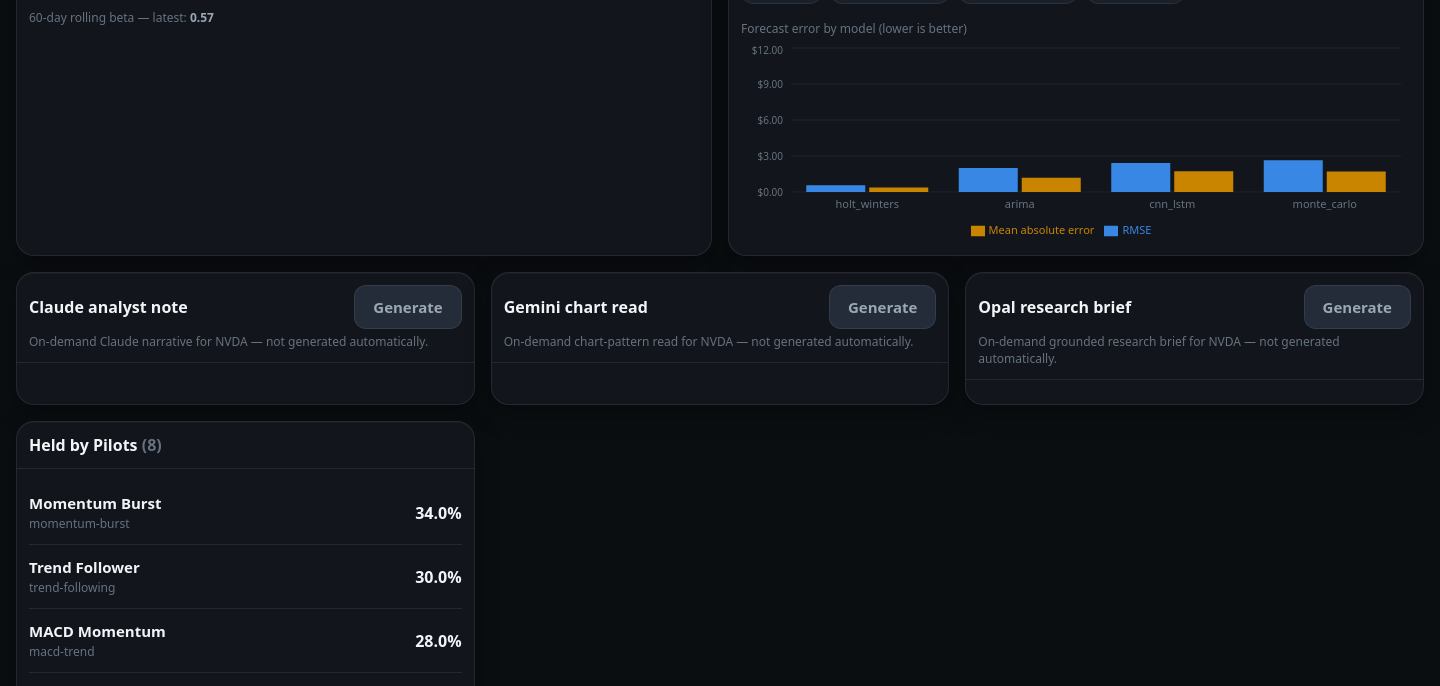
it: SymbolDetail screen (real mock API) › On-demand AI generation cards › Claude analyst note: an honest missing_key reason renders the specific operator-facing message, never a generic error
(page scrolled)
Click the button "Generate" in the row of "Claude analyst note" at (408, 307), box [354,285,462,329]
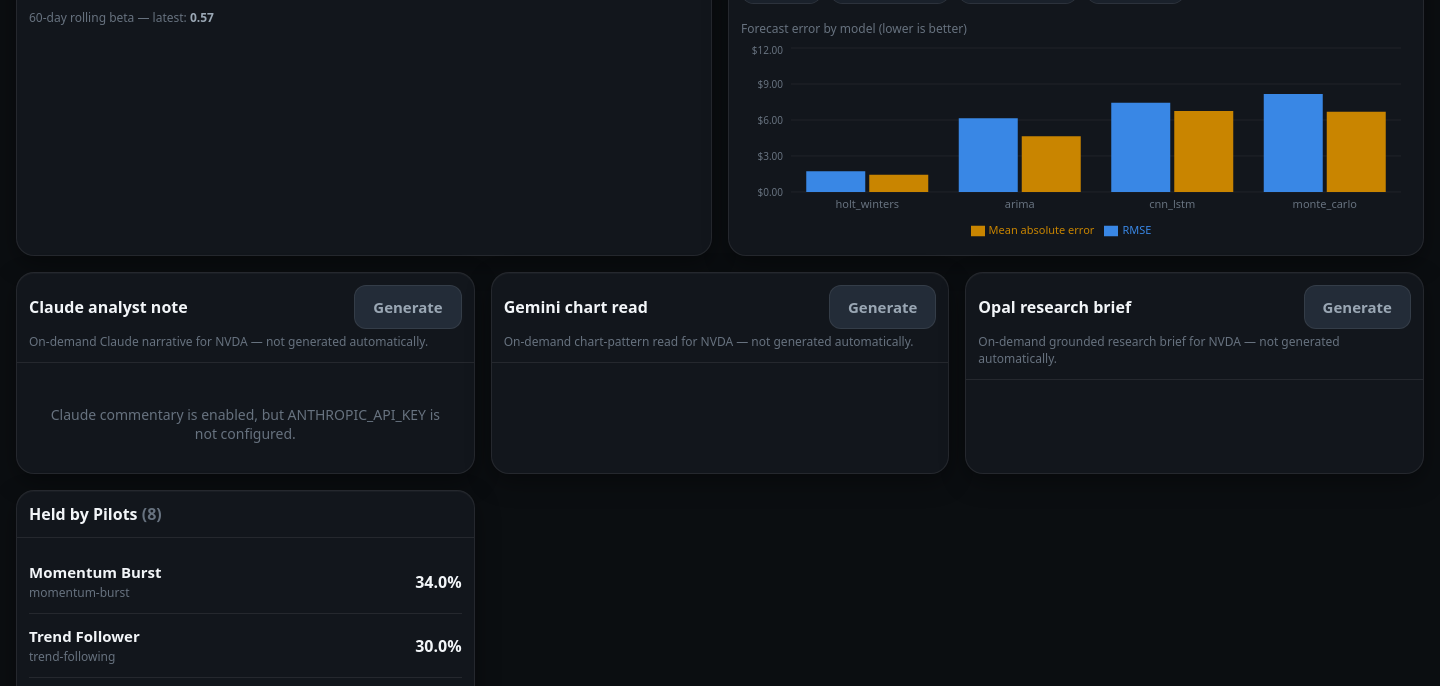
Check: the text "Claude commentary is enabled, but ANTHROPIC_API_KEY is not configured." is shown, box [51,405,440,443]
